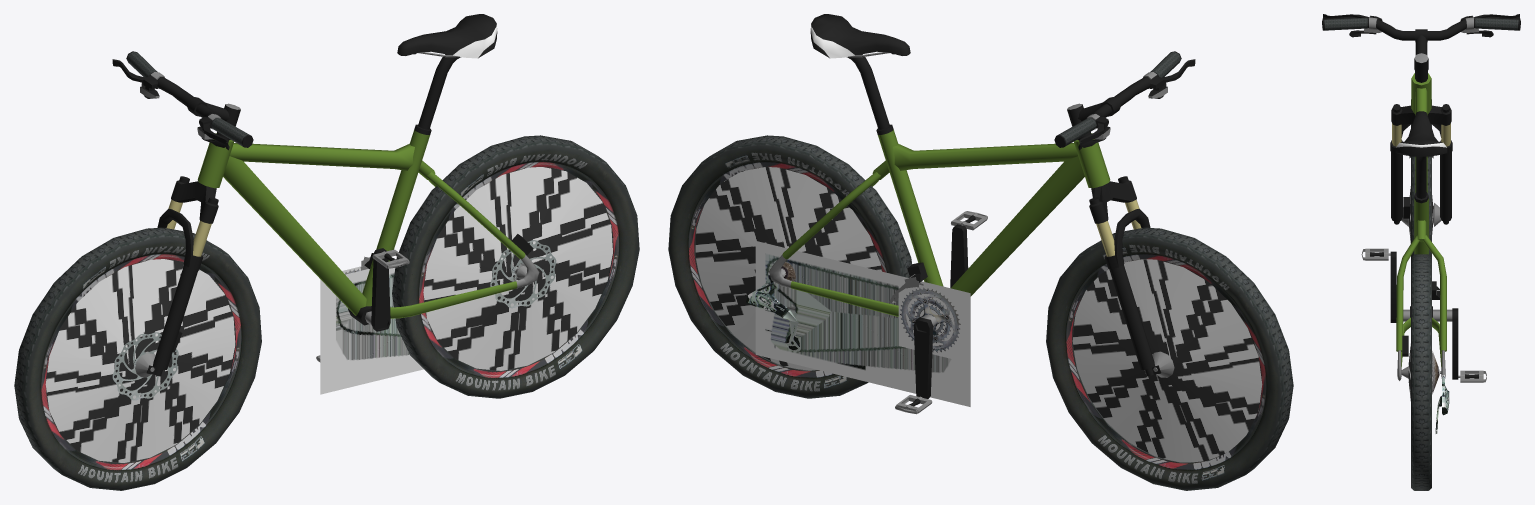
File: bike_vtt_LOD_02.FBX
The picture shows the model from 3 angles, left to right: view 1: azimuth 30°, elevation 25°; view 2: azimuth 150°, elevation 25°; view 3: azimuth 270°, elevation 25°; orthographic projection. The views are drawn at different scales.
Parts seen in each view (by area): view 1: bike_wheel_AV01, bike_wheel_AR01, bike_base01, bike_handlebar01, bike_pedalier01; view 2: bike_wheel_AV01, bike_base01, bike_wheel_AR01, bike_handlebar01, bike_pedalier01; view 3: bike_handlebar01, bike_base01, bike_wheel_AR01, bike_pedalier01, bike_wheel_AV01, bike_pedale_L01, bike_pedale_R01.
Part boxes in pixels (<box>): bike_wheel_AV01: <box>14,227,261,490</box>; bike_wheel_AR01: <box>392,135,639,398</box>; bike_base01: <box>197,14,539,394</box>; bike_handlebar01: <box>112,51,253,376</box>; bike_pedalier01: <box>320,248,390,331</box>; bike_wheel_AV01: <box>1046,227,1293,490</box>; bike_base01: <box>746,14,1110,406</box>; bike_wheel_AR01: <box>668,135,912,398</box>; bike_handlebar01: <box>1054,51,1195,376</box>; bike_pedalier01: <box>898,224,968,398</box>; bike_handlebar01: <box>1322,14,1520,224</box>; bike_base01: <box>1395,73,1449,433</box>; bike_wheel_AR01: <box>1401,254,1441,490</box>; bike_pedalier01: <box>1390,251,1458,379</box>; bike_wheel_AV01: <box>1401,99,1441,256</box>; bike_pedale_L01: <box>1361,248,1390,260</box>; bike_pedale_R01: <box>1458,370,1486,382</box>.
Bounding box in the file's own units: 176 × 104 × 57.48.
